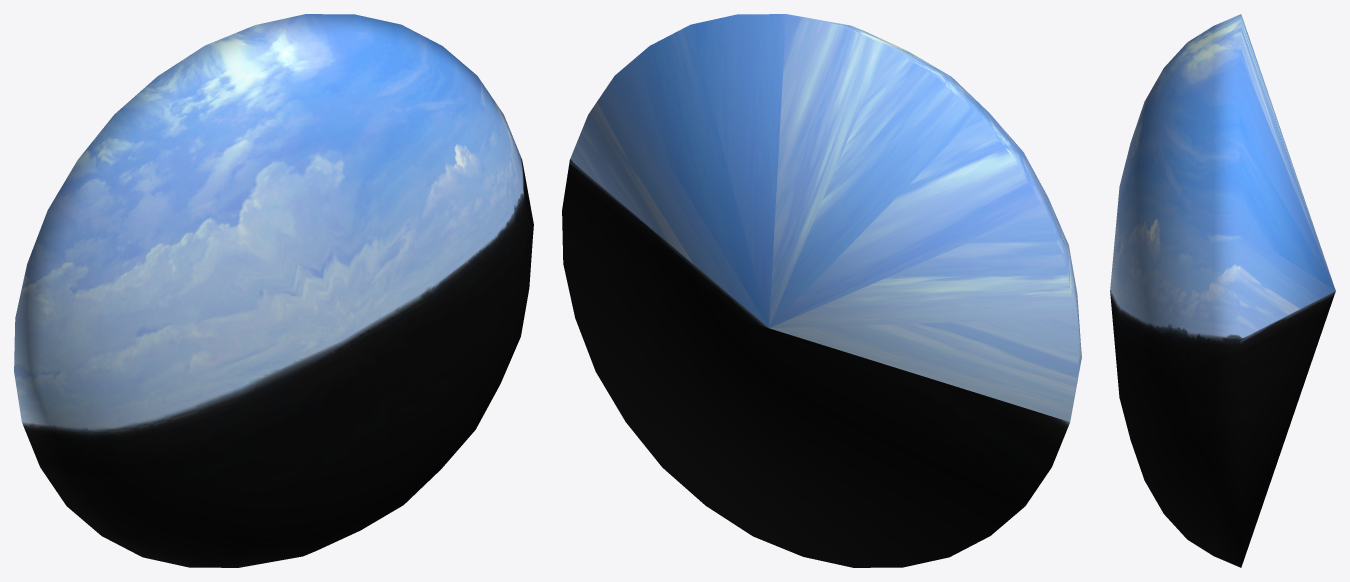
The model's file is skybox_mp_nuketown2020_LOD0.obj.
3 views of the same model, side by side, from view 1: azimuth 30°, elevation 25°; view 2: azimuth 150°, elevation 25°; view 3: azimuth 270°, elevation 25° (orthographic). The views are drawn at different scales.
Parts seen in each view (by area): view 1: mtl_skybox_mp_nuketown2020; view 2: mtl_skybox_mp_nuketown2020; view 3: mtl_skybox_mp_nuketown2020.
Part boxes in pixels (x1,y1,x2,y2): mtl_skybox_mp_nuketown2020: [14, 14, 533, 567]; mtl_skybox_mp_nuketown2020: [562, 14, 1081, 567]; mtl_skybox_mp_nuketown2020: [1110, 14, 1335, 567].
Bounding box in the file's own units: 3980 × 3980 × 1625.
